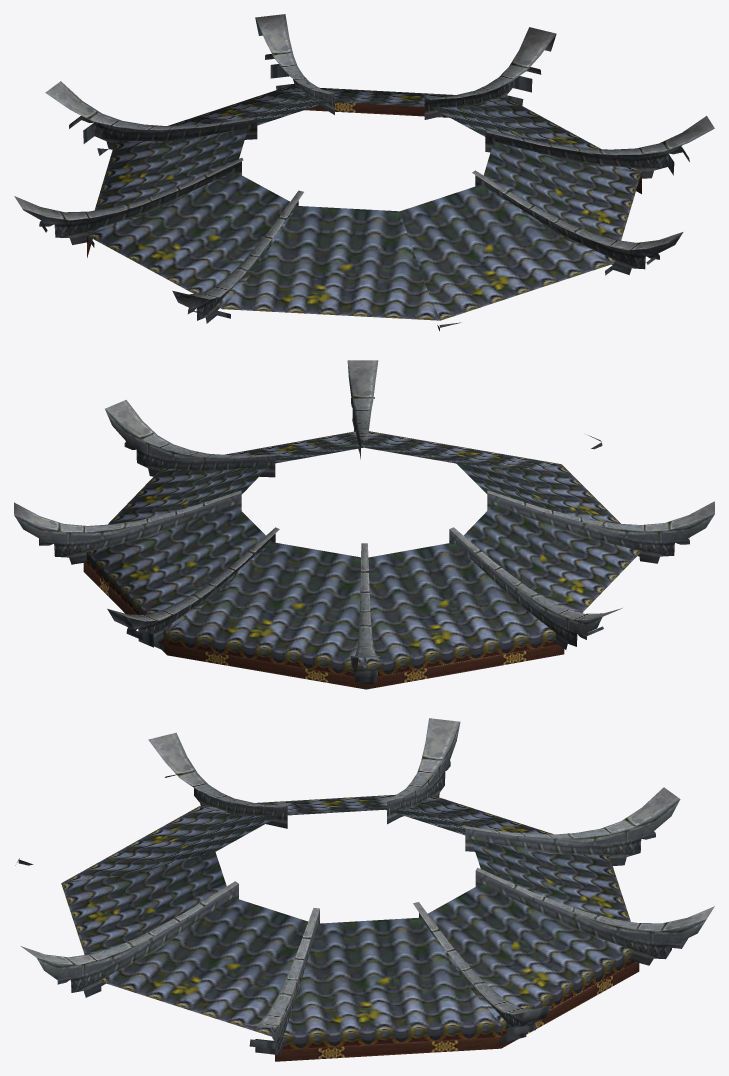
The model's file is S2_Build_XSC021b_H3.FBX.
3 views of the same model, one above another, from view 1: azimuth 30°, elevation 25°; view 2: azimuth 150°, elevation 25°; view 3: azimuth 270°, elevation 25° (orthographic). The views are drawn at different scales.
Parts seen in each view (by area): view 1: S2_Build_XSC021b_H3; view 2: S2_Build_XSC021b_H3; view 3: S2_Build_XSC021b_H3.
Part boxes in pixels (x1,y1,x2,y2): S2_Build_XSC021b_H3: (14,14,714,330); S2_Build_XSC021b_H3: (14,360,714,689); S2_Build_XSC021b_H3: (15,718,714,1061).
Bounding box in the file's own units: 6484 × 831 × 6225.
